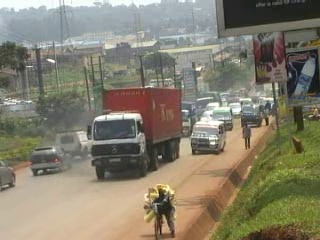Car: (26, 142, 75, 179), (52, 125, 95, 164), (0, 153, 20, 192), (225, 100, 243, 117), (204, 97, 224, 112), (199, 107, 216, 123)
